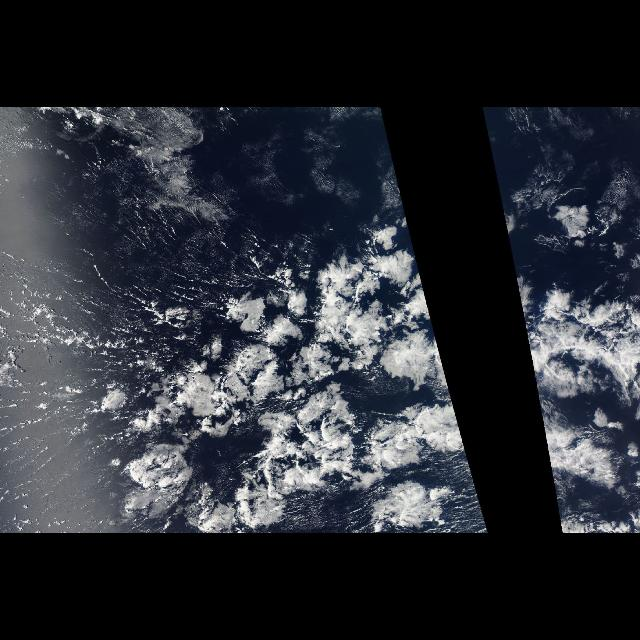Flower: (121, 231, 489, 533), (504, 231, 640, 533)
Sugar: (5, 182, 130, 534)
